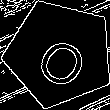O_NE: (27, 20, 92, 87)
